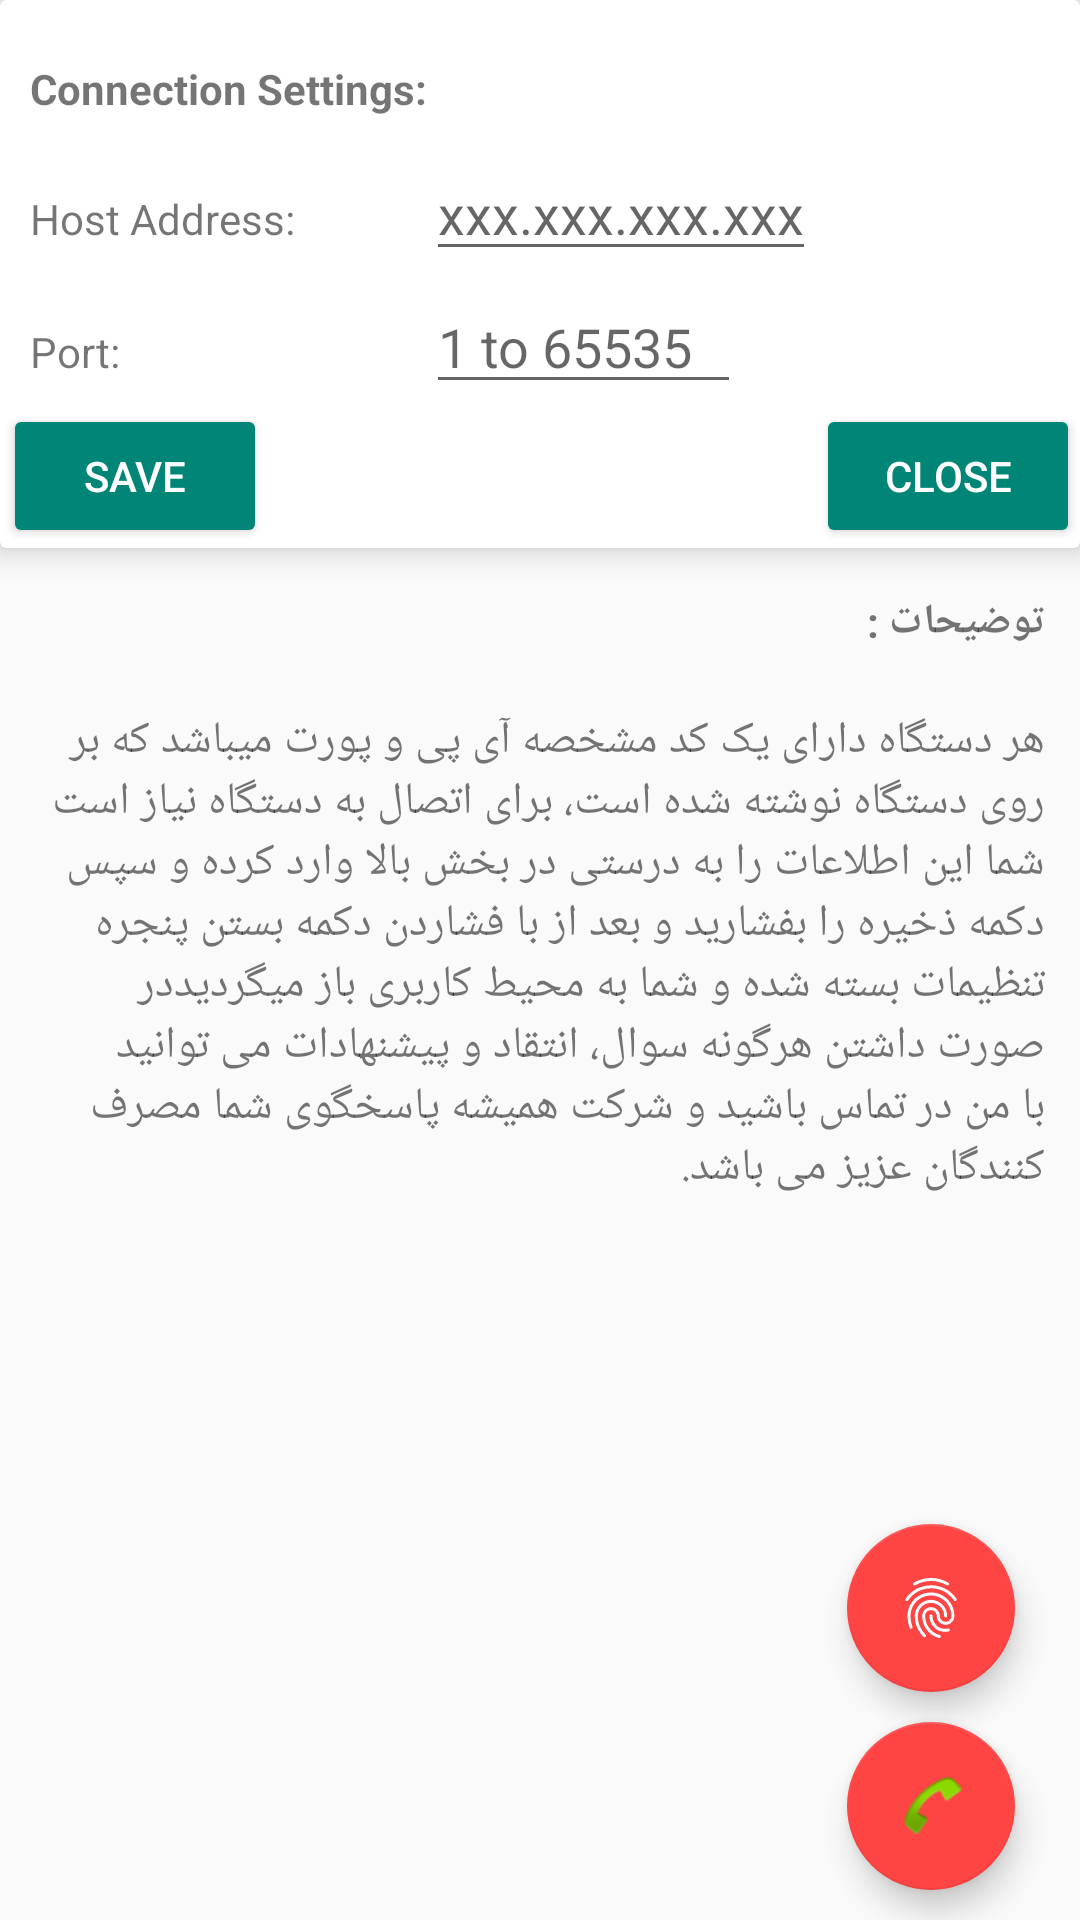

Locate icon controls on the screen. Image size 1080 x 1920, boxes as (x1, y1, x2, y2).
sym action call: (847, 1722, 1015, 1890)
